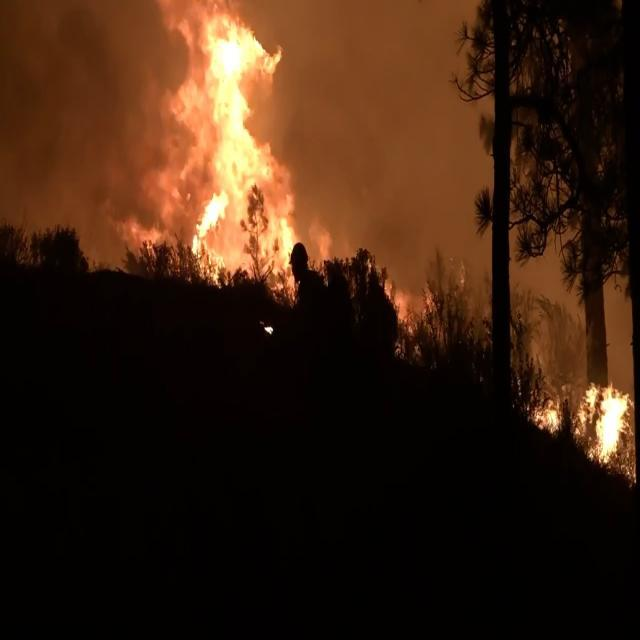Fire: (122, 0, 320, 301)
